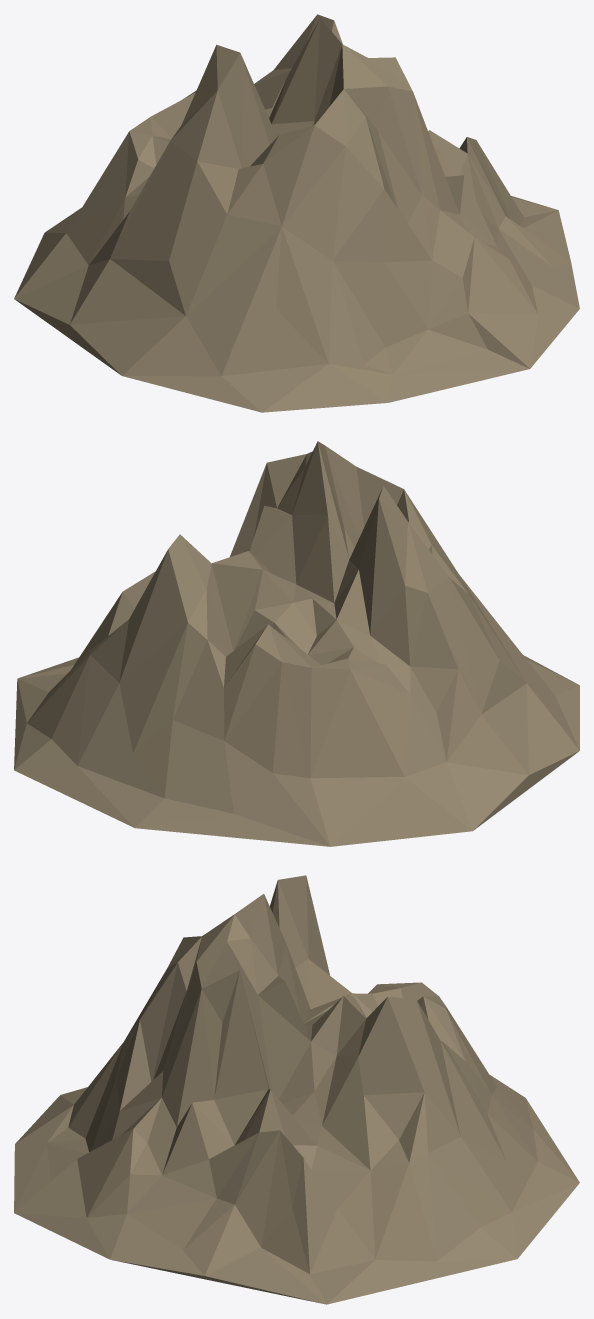
Rendered from Mountain_7.fbx.
The picture shows the model from 3 angles, top to bottom: view 1: azimuth 30°, elevation 25°; view 2: azimuth 150°, elevation 25°; view 3: azimuth 270°, elevation 25°; orthographic projection.
Parts seen in each view (by area): view 1: Mountain_7; view 2: Mountain_7; view 3: Mountain_7.
Boxes of the visible parts, bbox=[...] form: Mountain_7: bbox=[14, 14, 579, 412]; Mountain_7: bbox=[14, 441, 579, 846]; Mountain_7: bbox=[14, 875, 579, 1304].
Bounding box in the file's own units: 770 × 413 × 757.
